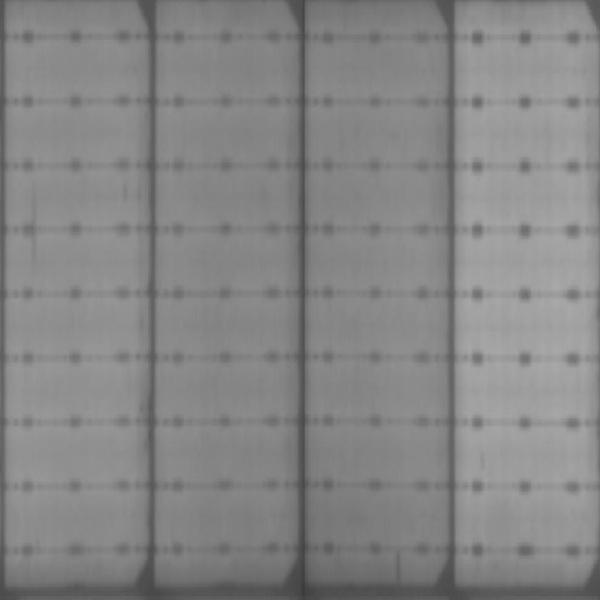scratch: (27, 181, 46, 264), (390, 546, 411, 587)
